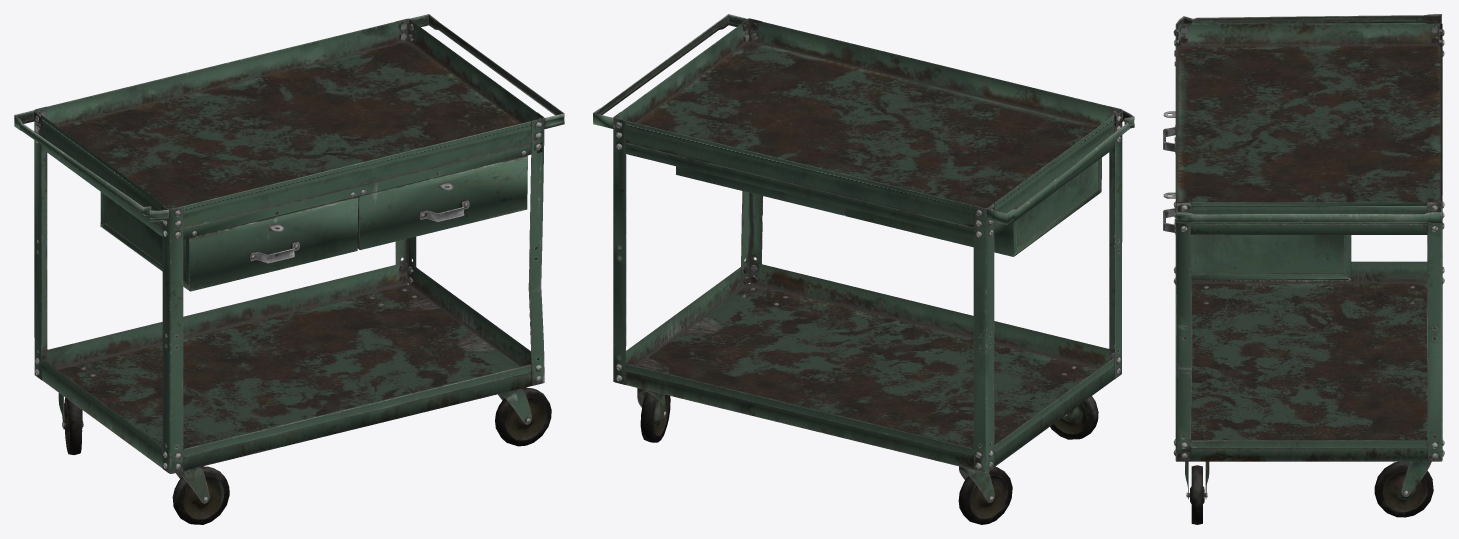
The model's file is ph_tool_cart.gltf.
The picture shows the model from 3 angles, left to right: view 1: azimuth 30°, elevation 25°; view 2: azimuth 150°, elevation 25°; view 3: azimuth 270°, elevation 25°; orthographic projection. The views are drawn at different scales.
Visible parts, largest first — view 1: Body; view 2: Body; view 3: Body.
Part boxes in pixels (x1=…): Body: x1=14, y1=14, x2=564, y2=524; Body: x1=593, y1=14, x2=1134, y2=524; Body: x1=1163, y1=14, x2=1444, y2=524.
Size of the model in its own units: 1.27 by 0.9672 by 0.7543.
Materials: 1 (1 with a texture image).
